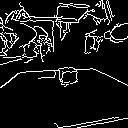cube: (52, 64, 83, 90)
